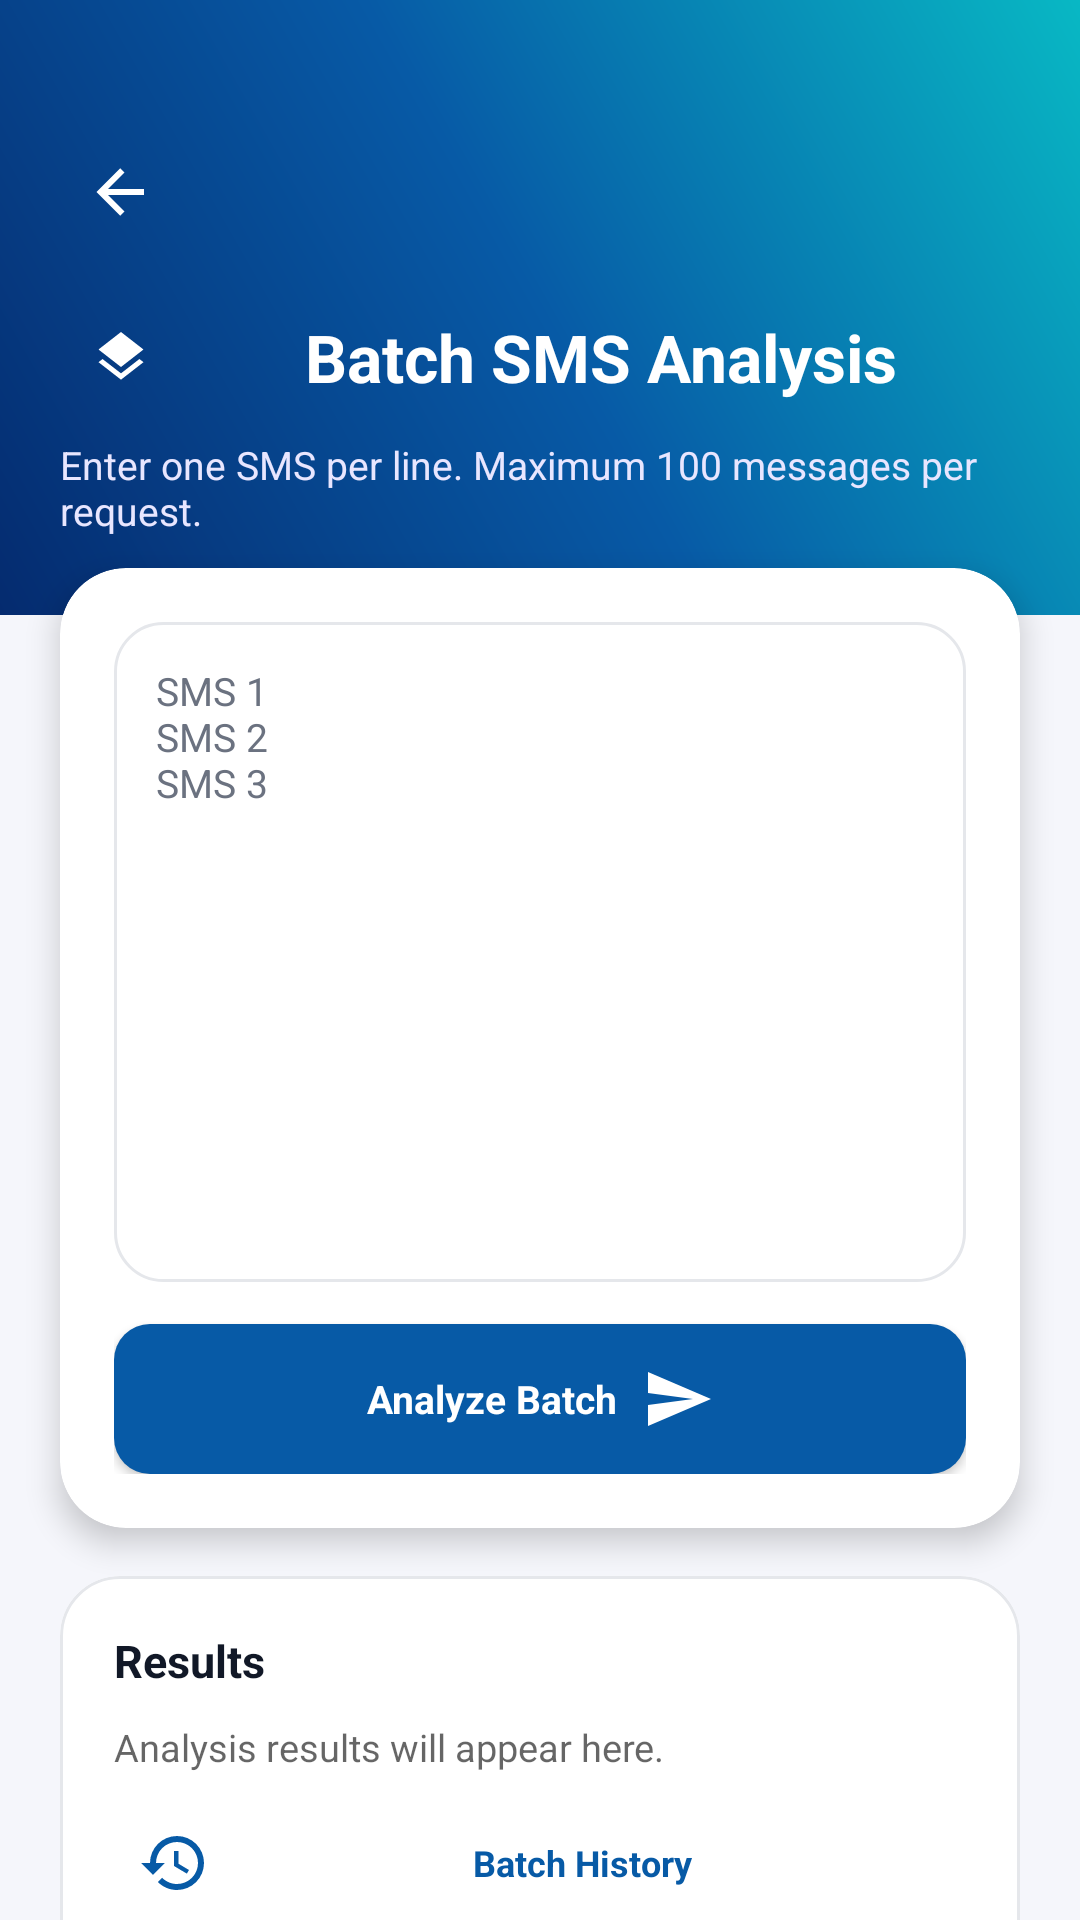

Where to tap for icons on this 1080 x 1920 app screen, as [x,y]:
Back: [120,192]
layers: [121,356]
